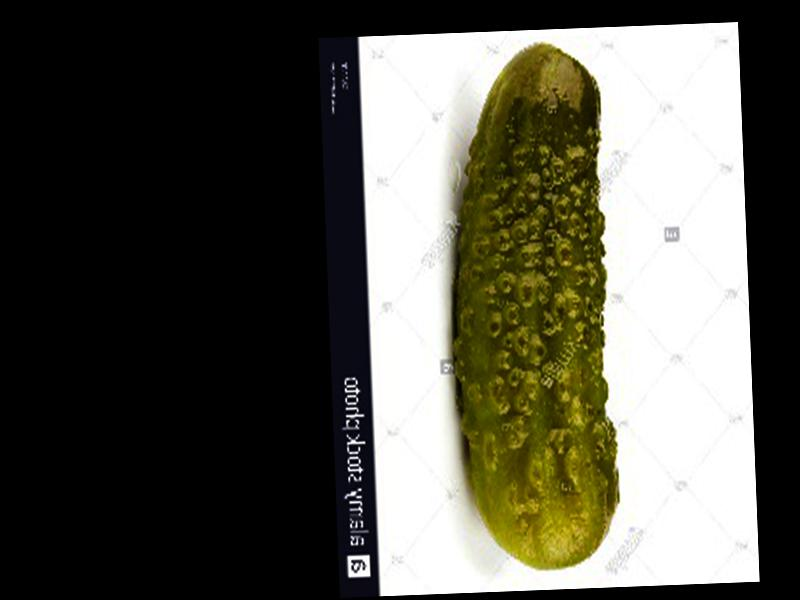Cucumber: (442, 39, 621, 573)
